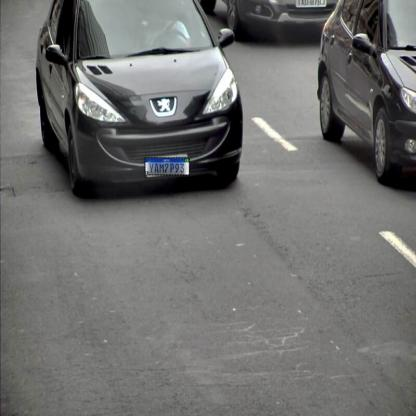PlacaM: (145, 158, 190, 176)
